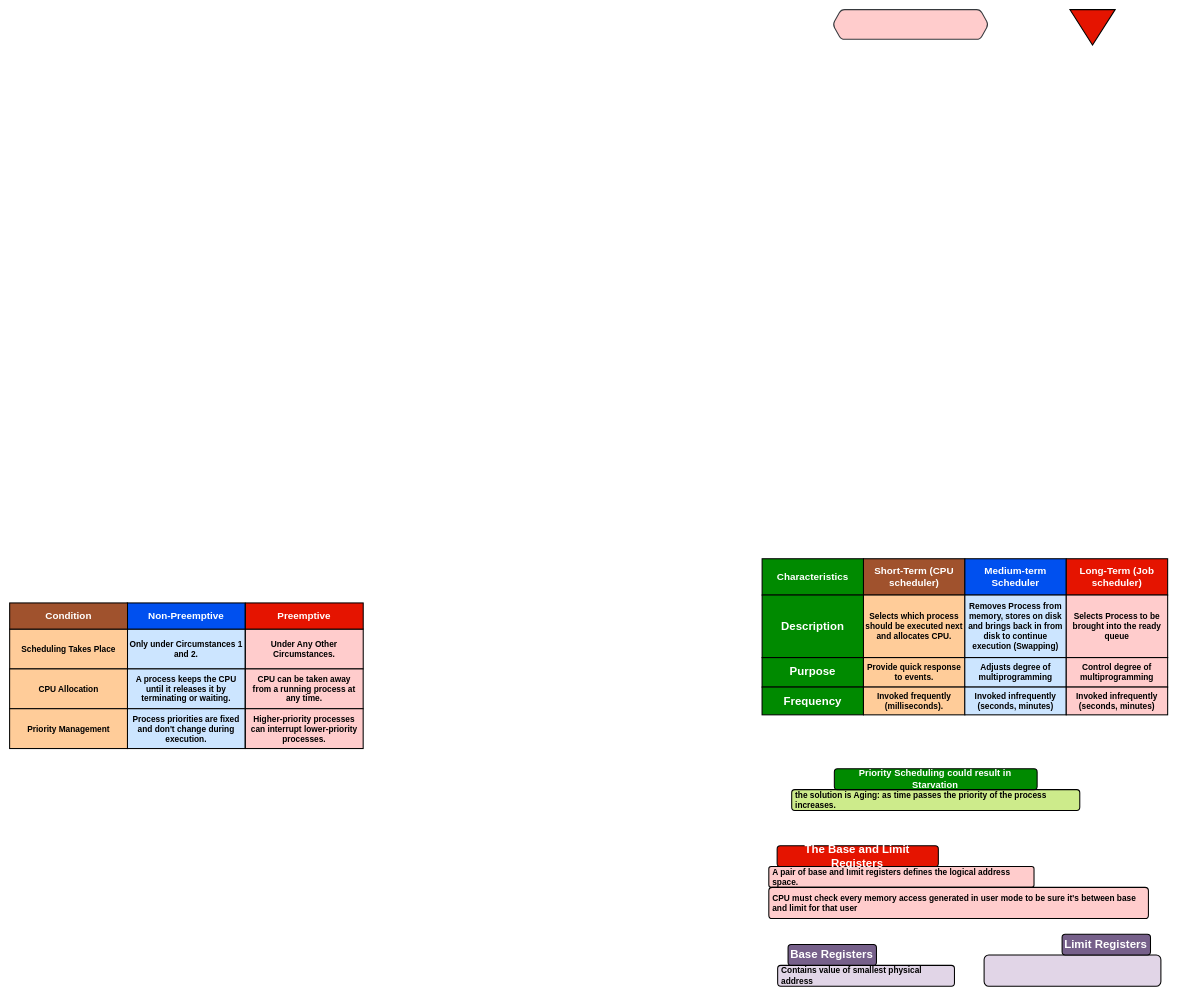
Some shapes in this 1177 by 996 pixel diagram are drawn without their labels. Here are the shapes that lost their labels. From the top down, the centre of each, then its label:
(x=910, y=24): Operating System Midterm
(x=1092, y=27): ديما مغرب
(x=1072, y=970): Contains range of logical addresses must be less than the limit registers
